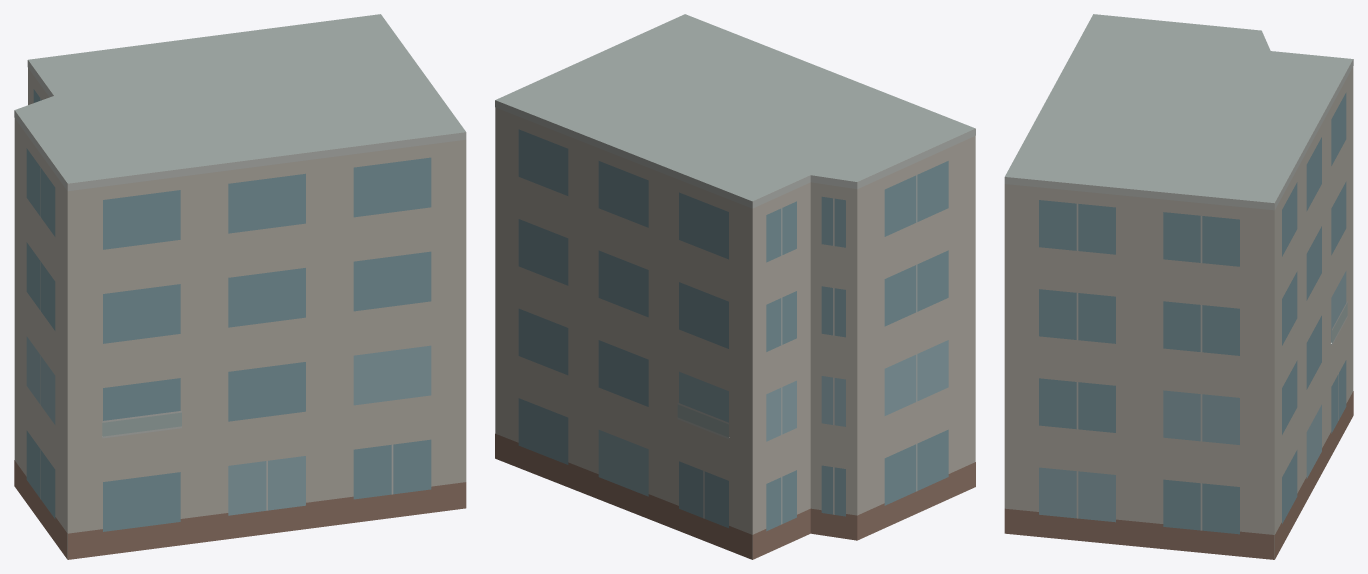
Rendered from residential-6c12caa6-ce1c-45a1-97e5-b11baa6d6072.glb.
3 renders of one model, left to right at view 1: azimuth 30°, elevation 25°; view 2: azimuth 150°, elevation 25°; view 3: azimuth 270°, elevation 25°, orthographic. The views are drawn at different scales.
Parts seen in each view (by area): view 1: residential-6c12caa6-ce1c-45a1-97e5-b11baa6d6072.tmp; view 2: residential-6c12caa6-ce1c-45a1-97e5-b11baa6d6072.tmp; view 3: residential-6c12caa6-ce1c-45a1-97e5-b11baa6d6072.tmp.
Boxes of the visible parts, x1,y1,x2,y2 form: residential-6c12caa6-ce1c-45a1-97e5-b11baa6d6072.tmp: [14, 14, 466, 559]; residential-6c12caa6-ce1c-45a1-97e5-b11baa6d6072.tmp: [495, 14, 975, 559]; residential-6c12caa6-ce1c-45a1-97e5-b11baa6d6072.tmp: [1004, 14, 1353, 559].
Size of the model in its own units: 13.89 by 12.2 by 10.82.
